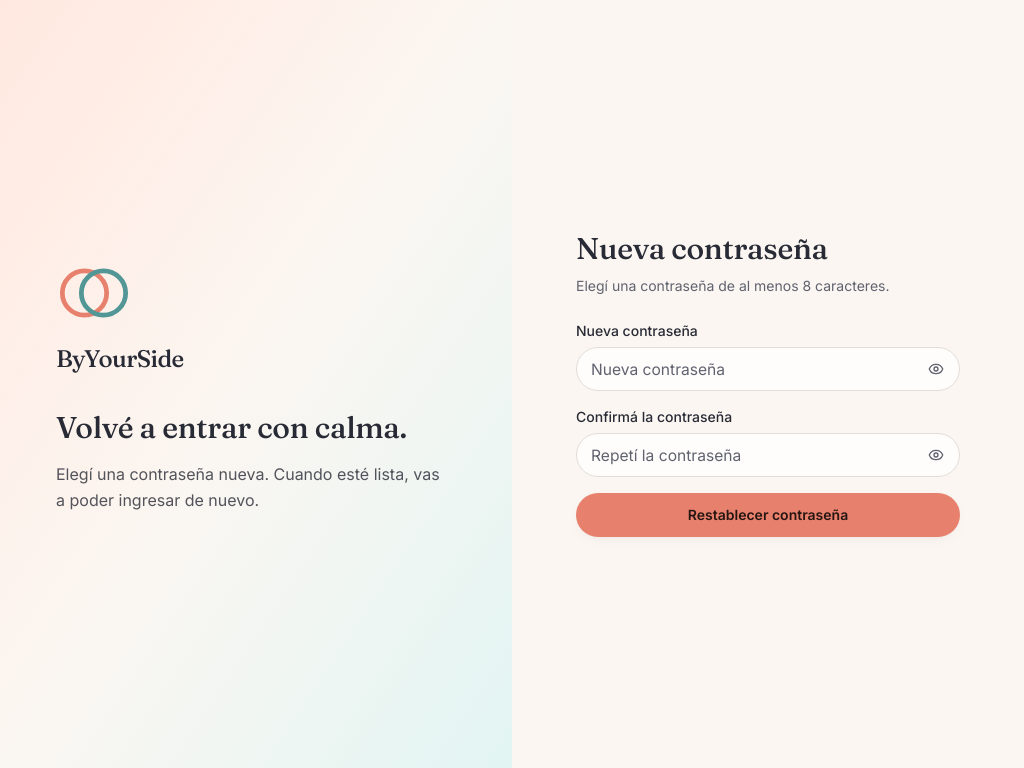
Test: ResetPasswordPage › shows and hides each password without changing its value
Type "secretpass" into the password field labelled "Nueva contraseña" at point(768, 369), box [576, 347, 960, 391]
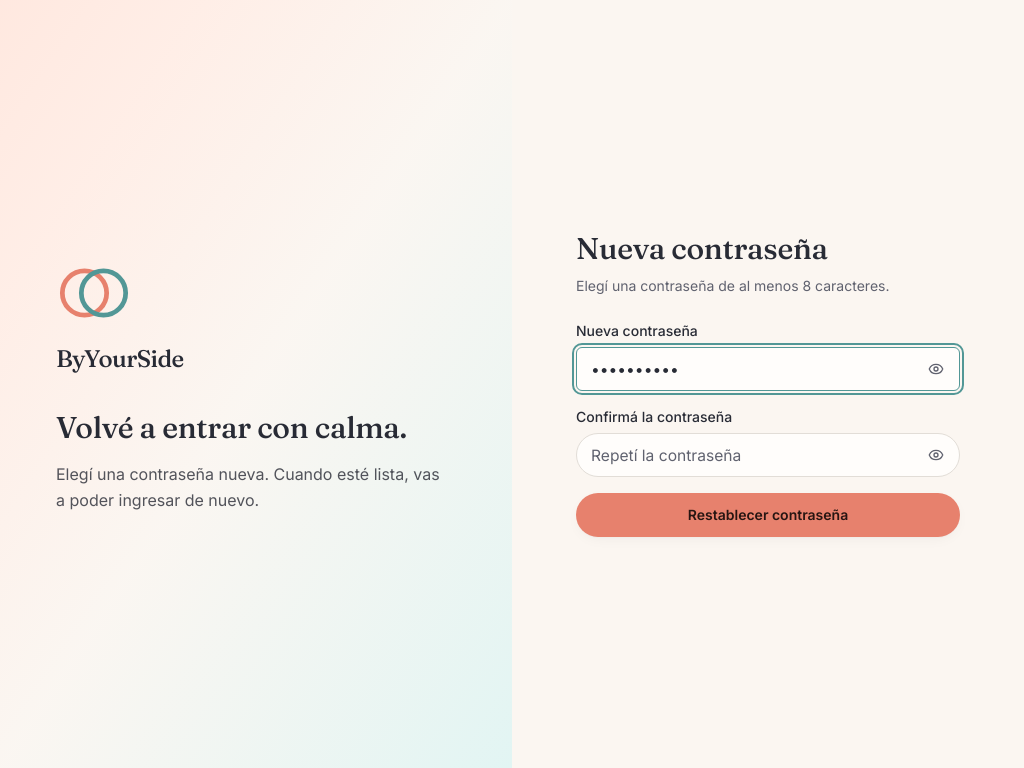
Type "secretpass" into the password field labelled "Confirmá la contraseña" at point(768, 455), box [576, 433, 960, 477]
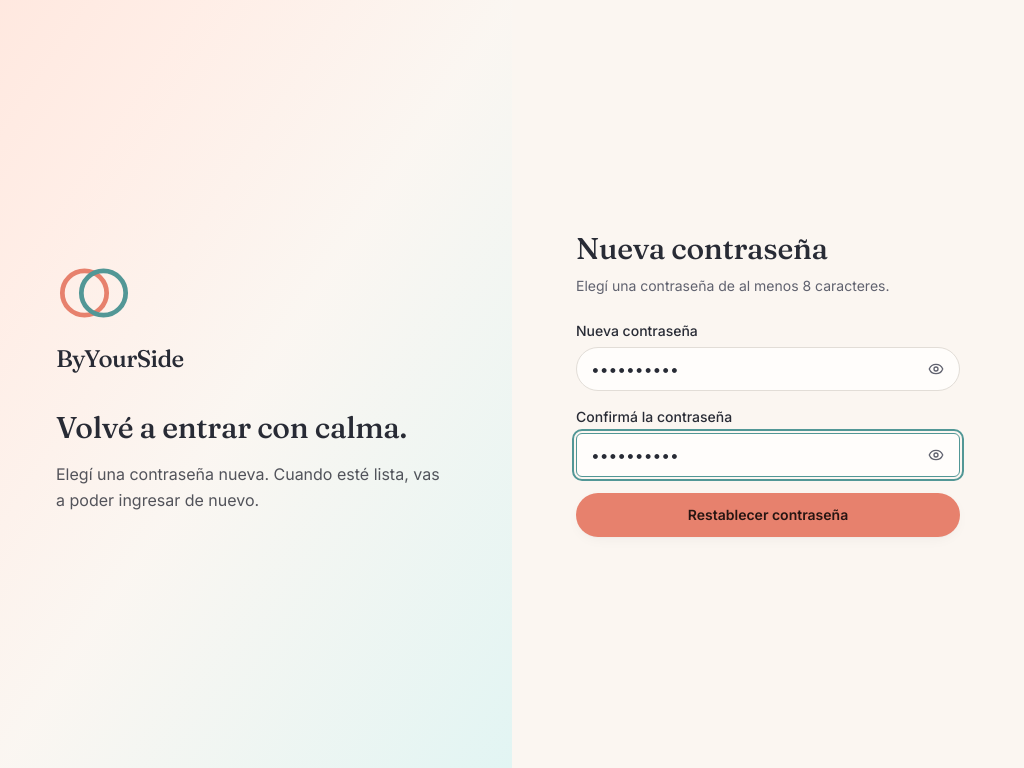
Click the button named "Mostrar nueva contraseña" at point(936, 369), box [916, 349, 956, 389]
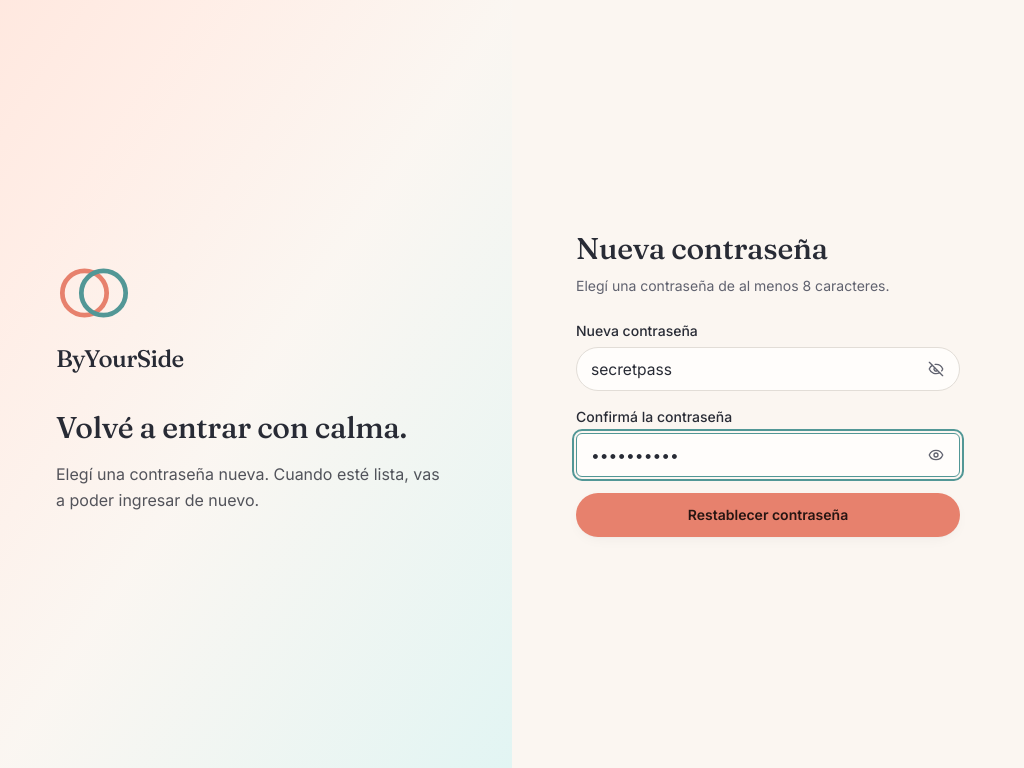
Click the button named "Mostrar confirmación de contraseña" at point(936, 455), box [916, 435, 956, 475]
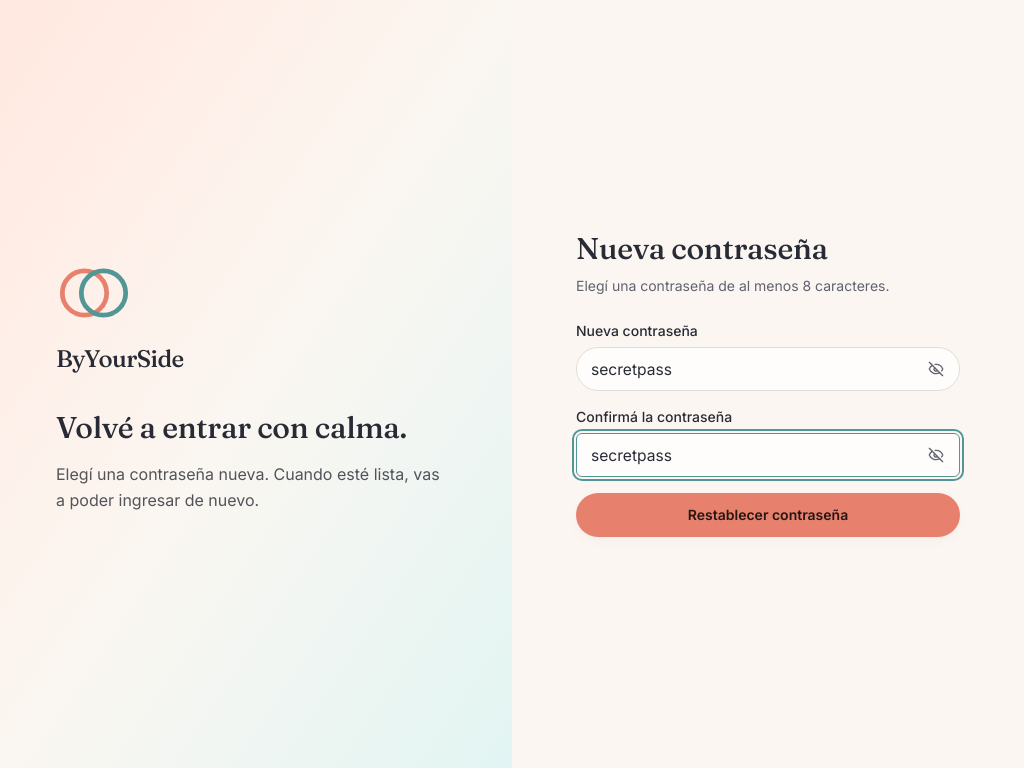
Check: the field labelled "Nueva contraseña" shows its text, box [576, 347, 960, 391]
Check: the field labelled "Confirmá la contraseña" shows its text, box [576, 433, 960, 477]
